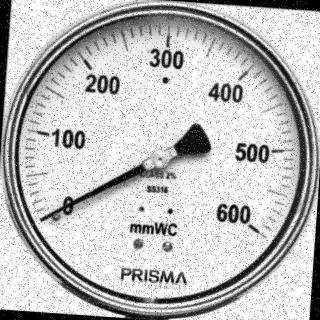gauge: (0, 0, 320, 320), (230, 210, 269, 244), (42, 198, 72, 226), (149, 144, 171, 170), (36, 212, 51, 226)
